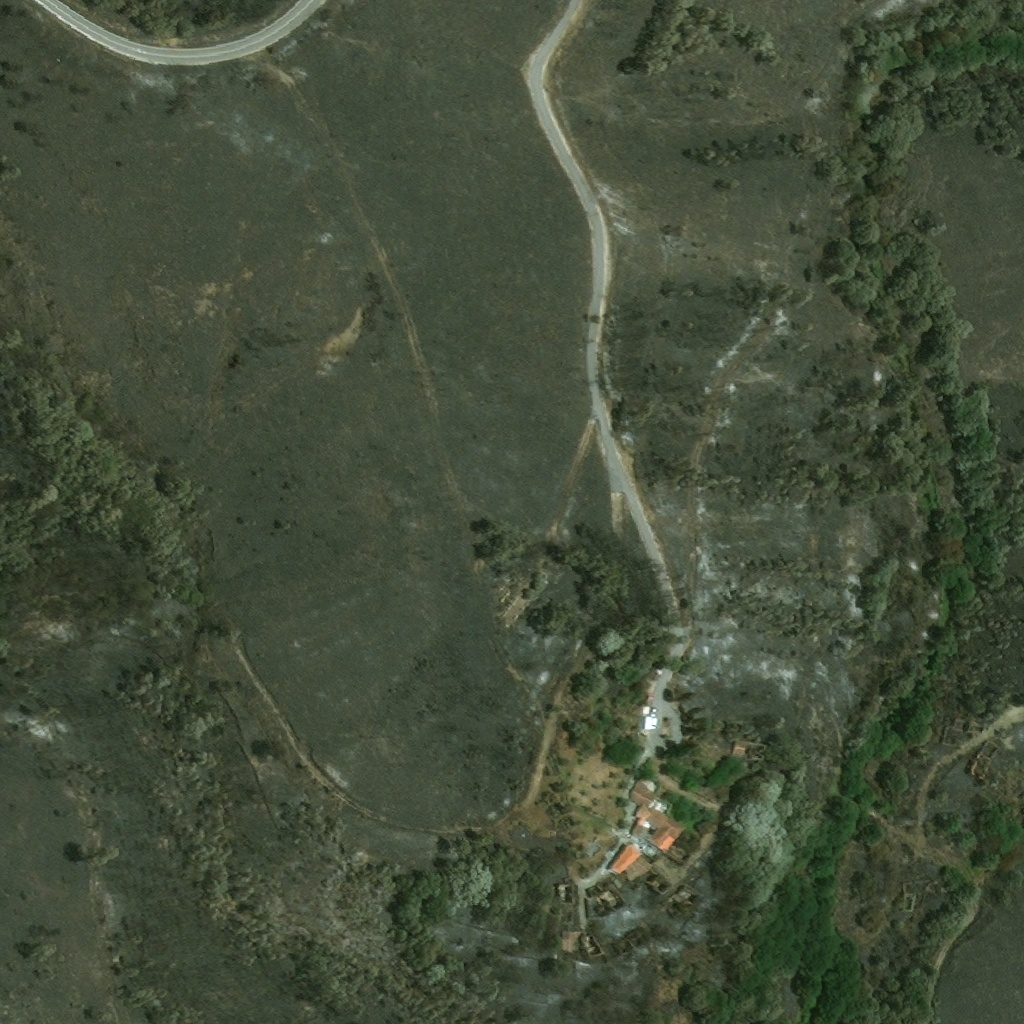0 no-damage: (628, 806, 684, 854), (624, 776, 662, 806), (606, 844, 640, 877)
2 major-damage: (730, 741, 751, 758)
3 destroyed: (584, 891, 606, 923), (579, 932, 603, 960), (559, 925, 577, 954), (559, 882, 579, 906), (609, 893, 628, 911)
